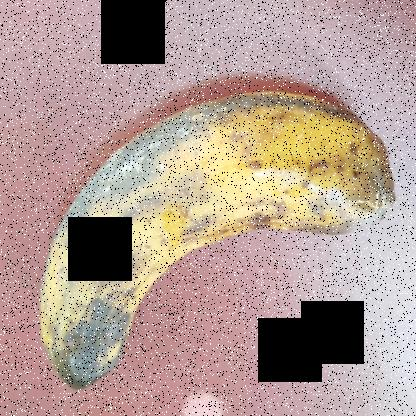rotten: (27, 82, 407, 401)
